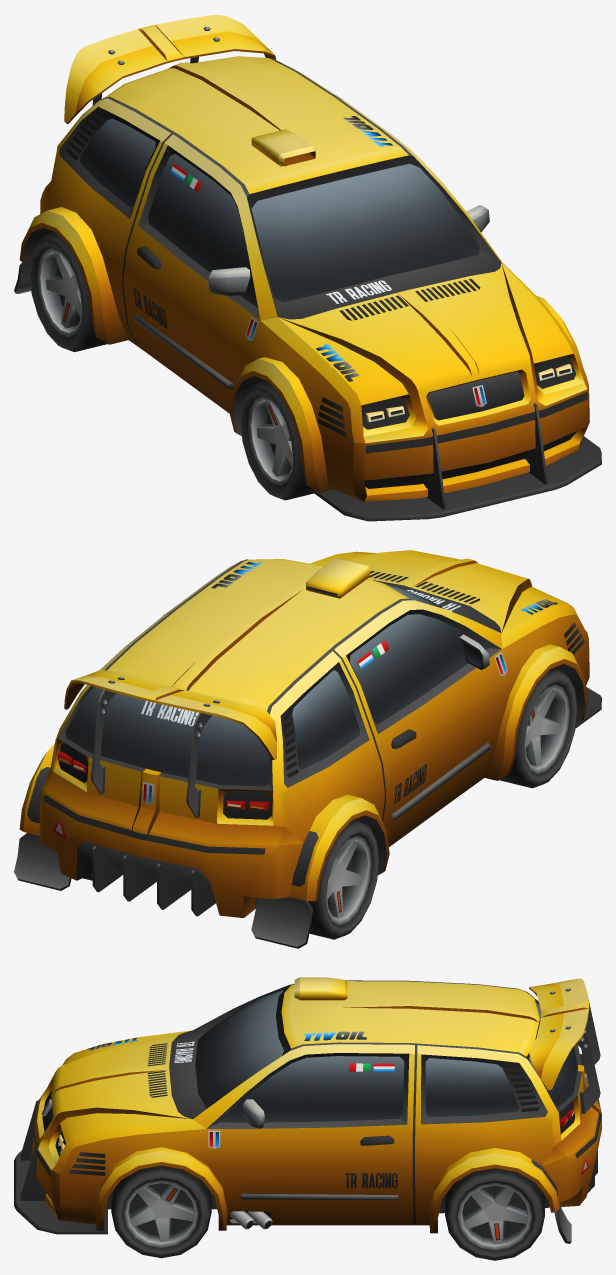
The model's file is Rally_Car_4A.fbx.
The picture shows the model from 3 angles, top to bottom: view 1: azimuth 30°, elevation 25°; view 2: azimuth 150°, elevation 25°; view 3: azimuth 270°, elevation 25°; orthographic projection. The views are drawn at different scales.
Visible parts, largest first — view 1: Rally_Car_4A, Rally_Car_4A_Spoiler, Rally_Car_4A_Front_Skirt, Wheel_4A_R.R, Wheel_4A_F.R, Rally_Car_4A_Livery, Rally_Car_4A_Roof_Scoop; view 2: Rally_Car_4A, Rally_Car_4A_Spoiler, Wheel_4A_R.R, Wheel_4A_F.R, Rally_Car_4A_Diffuser, Mudflap_4A_R.R, Rally_Car_4A_Livery, Mudflap_4A_R.L, Rally_Car_4A_Roof_Scoop; view 3: Rally_Car_4A, Wheel_4A_R.L, Wheel_4A_F.L, Rally_Car_4A_Spoiler, Rally_Car_4A_Front_Skirt, Rally_Car_4A_Livery, Rally_Car_4A_Roof_Scoop, Mudflap_4A_R.L.
Part boxes in pixels (x1,y1,x2,y2): Rally_Car_4A: (19, 56, 589, 502); Rally_Car_4A_Spoiler: (64, 14, 275, 123); Rally_Car_4A_Front_Skirt: (313, 402, 601, 521); Wheel_4A_R.R: (29, 231, 107, 352); Wheel_4A_F.R: (240, 380, 313, 500); Rally_Car_4A_Livery: (133, 116, 392, 381); Rally_Car_4A_Roof_Scoop: (251, 129, 315, 166); Rally_Car_4A: (19, 550, 589, 917); Rally_Car_4A_Spoiler: (64, 669, 276, 817); Wheel_4A_R.R: (308, 819, 379, 939); Wheel_4A_F.R: (500, 668, 577, 788); Rally_Car_4A_Diffuser: (92, 846, 215, 916); Mudflap_4A_R.R: (251, 897, 312, 948); Rally_Car_4A_Livery: (141, 562, 558, 804); Mudflap_4A_R.L: (14, 833, 71, 890); Rally_Car_4A_Roof_Scoop: (306, 558, 369, 598); Rally_Car_4A: (31, 980, 601, 1233); Wheel_4A_R.L: (445, 1168, 544, 1260); Wheel_4A_F.L: (111, 1165, 211, 1258); Rally_Car_4A_Spoiler: (529, 978, 600, 1113); Rally_Car_4A_Front_Skirt: (14, 1100, 107, 1234); Rally_Car_4A_Livery: (87, 1031, 397, 1188); Rally_Car_4A_Roof_Scoop: (294, 977, 347, 1000); Mudflap_4A_R.L: (554, 1203, 571, 1243).
Size of the model in its own units: 233 by 197 by 494.
